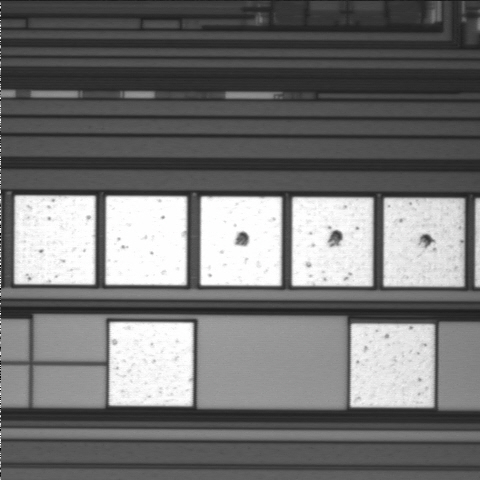pad: (200, 197, 282, 286), (14, 196, 95, 285), (106, 196, 187, 285), (292, 197, 373, 286), (384, 198, 464, 287), (109, 322, 193, 406), (350, 324, 434, 407)
